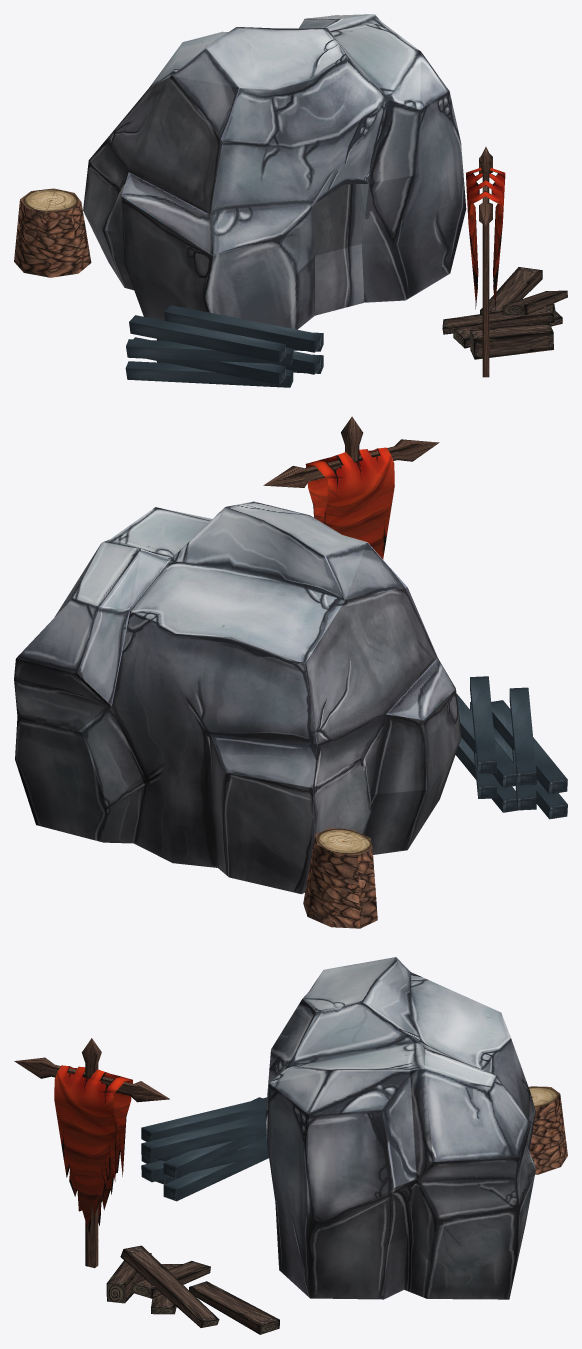
Rendered from Orc_construction_mine.FBX.
3 views of the same model, one above another, from view 1: azimuth 30°, elevation 25°; view 2: azimuth 150°, elevation 25°; view 3: azimuth 270°, elevation 25° (orthographic). The views are drawn at different scales.
Visible parts, largest first — view 1: mine_stones005, railway001, wood_table022, trunk011, Plane030, cross020; view 2: mine_stones005, railway001, Plane030, trunk011, cross020, railway006; view 3: mine_stones005, Plane030, railway001, wood_table022, trunk011, cross020, railway006.
Part boxes in pixels (x1,y1,x2,y2): mine_stones005: (83,14,466,329); railway001: (125,305,323,387); wood_table022: (442,267,567,359); trunk011: (14,188,91,277); Plane030: (466,167,505,309); cross020: (479,147,492,377); mine_stones005: (14,501,461,894); railway001: (455,676,567,819); Plane030: (305,447,394,559); trunk011: (303,828,377,928); cross020: (263,416,439,487); railway006: (456,694,517,787); mine_stones005: (265,957,535,1299); Plane030: (54,1065,132,1233); railway001: (141,1097,268,1201); wood_table022: (106,1245,279,1334); trunk011: (528,1086,567,1174); cross020: (14,1038,169,1268); railway006: (163,1133,266,1179).
Size of the model in its own units: 4106 by 2467 by 4735.
